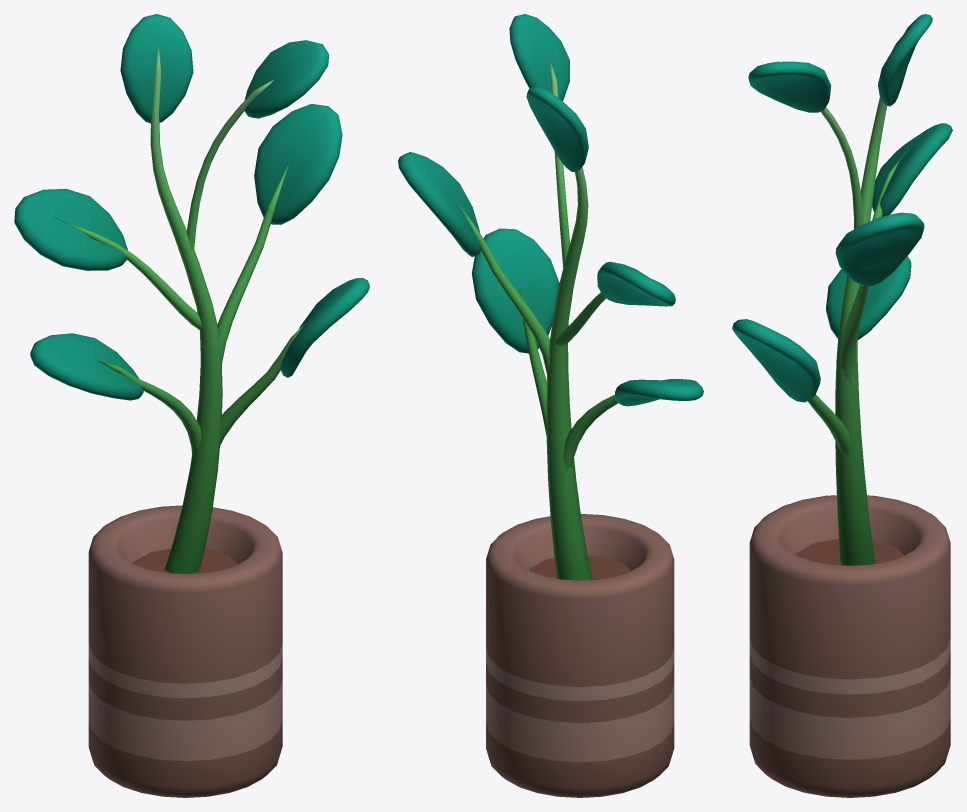
File: cute-furniture-glb-plants-15.glb
The picture shows the model from 3 angles, left to right: view 1: azimuth 30°, elevation 25°; view 2: azimuth 150°, elevation 25°; view 3: azimuth 270°, elevation 25°; orthographic projection. The views are drawn at different scales.
Parts seen in each view (by area): view 1: Plants_15; view 2: Plants_15; view 3: Plants_15.
Part boxes in pixels (x1,y1,x2,y2): Plants_15: (14,14,369,797); Plants_15: (398,14,703,797); Plants_15: (732,14,952,797).
Bounding box in the file's own units: 0.5145 × 1.16 × 0.3109.
1 material, 1 textured.
